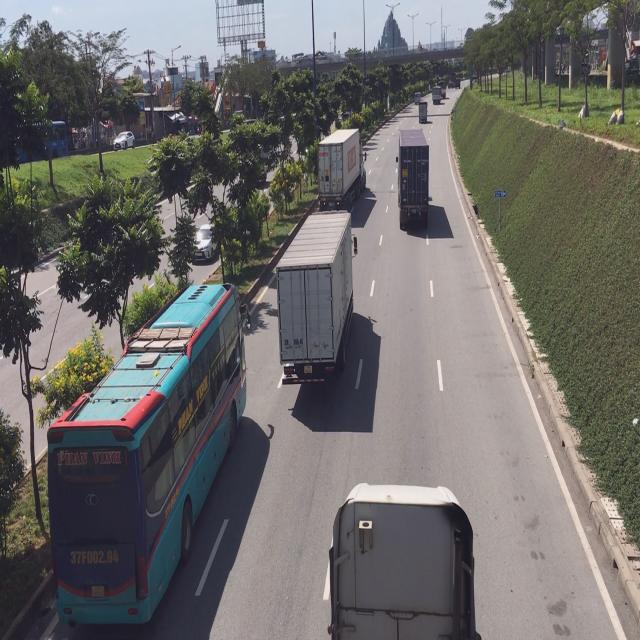bus: (45, 280, 245, 633)
truck: (332, 478, 479, 639), (277, 211, 355, 386), (317, 128, 367, 208), (399, 126, 431, 230)
